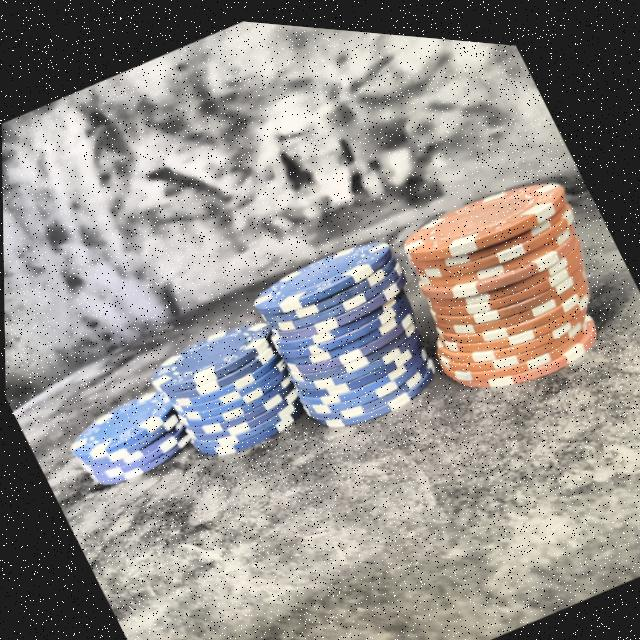Chip: (363, 123, 640, 422), (236, 190, 476, 456), (149, 303, 308, 468), (56, 362, 209, 506)
